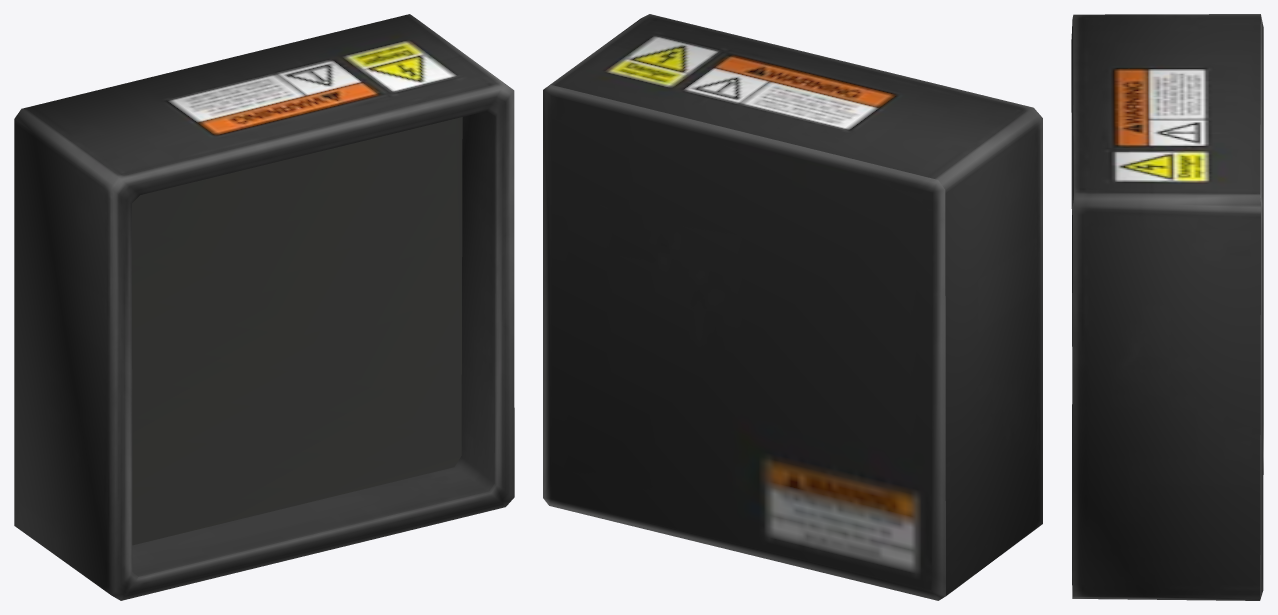
Rendered from counter.glb.
3 views of the same model, side by side, from view 1: azimuth 30°, elevation 25°; view 2: azimuth 150°, elevation 25°; view 3: azimuth 270°, elevation 25° (orthographic). The views are drawn at different scales.
Parts seen in each view (by area): view 1: Counter_LOD0; view 2: Counter_LOD0; view 3: Counter_LOD0.
Boxes of the visible parts, x1,y1,x2,y2 form: Counter_LOD0: (14, 14, 514, 600); Counter_LOD0: (543, 14, 1042, 600); Counter_LOD0: (1071, 14, 1263, 600).
Bounding box in the file's own units: 0.1789 × 0.1791 × 0.077.
Materials: 1 (1 with a texture image).
